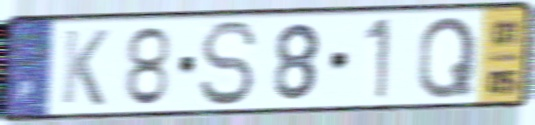1: (362, 16, 392, 103)
8: (123, 24, 173, 108), (272, 20, 321, 104)
K: (58, 26, 112, 109)
Q: (414, 13, 479, 102)
S: (196, 18, 261, 109)
